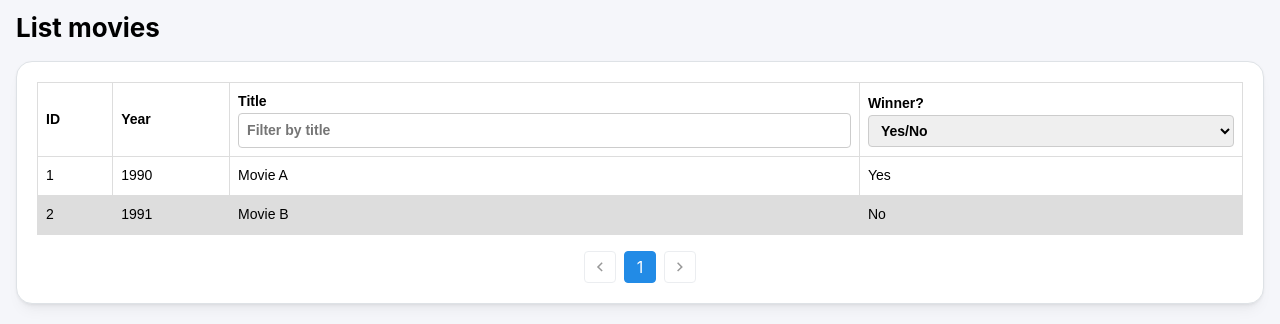
Test: Movies Page › should render movies and apply filters and pagination correctly
Expected: the text "Movie A" is shown, 230,157 -> 859,196
Expected: the text "1990" is shown, 113,157 -> 230,196
Type "Movie A" into the field with placeholder "Filter by title" at (544, 131), box 238,113 -> 851,148
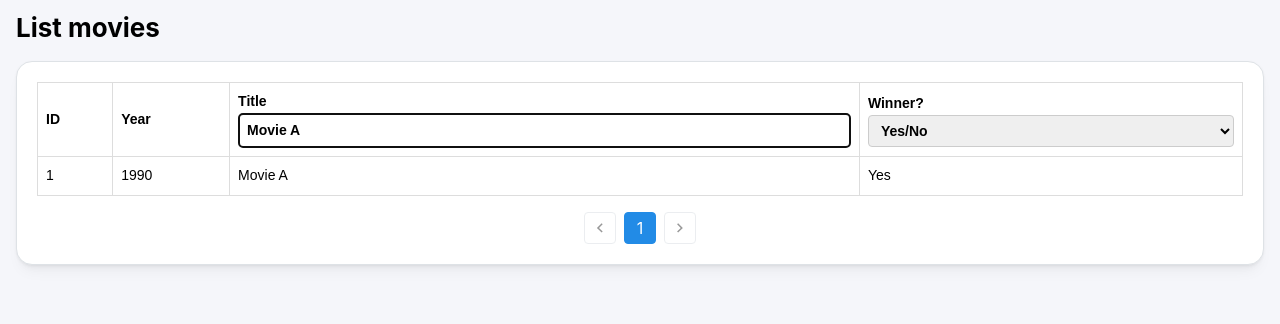
Expected: the text "Movie A" is shown, 230,157 -> 859,196
Expected: the text "Movie B" is gone
Select "No" in the dropdown at (1051, 131), box 868,115 -> 1234,147
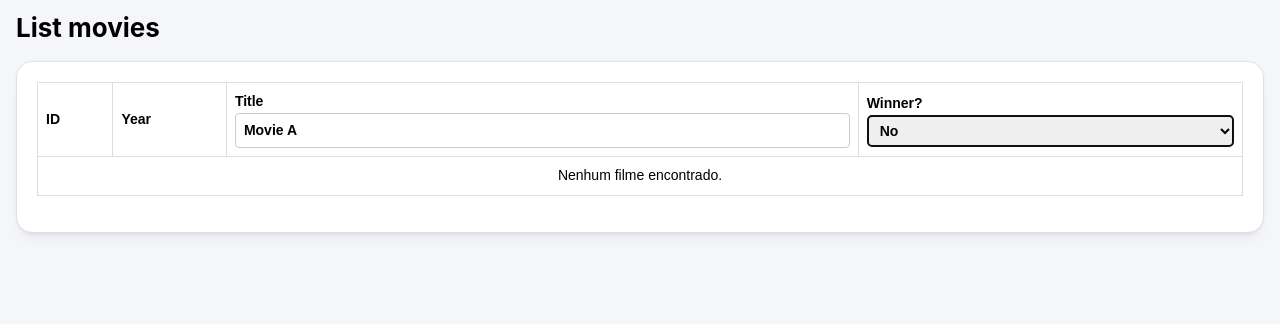
Expected: the text "Nenhum filme encontrado." is shown, 38,157 -> 1242,196
